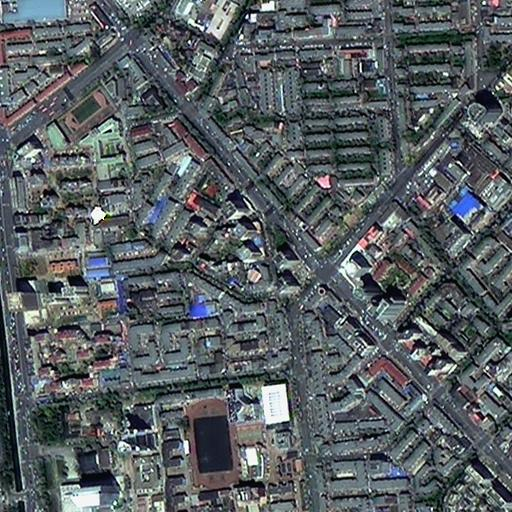school: (55, 80, 129, 170)
